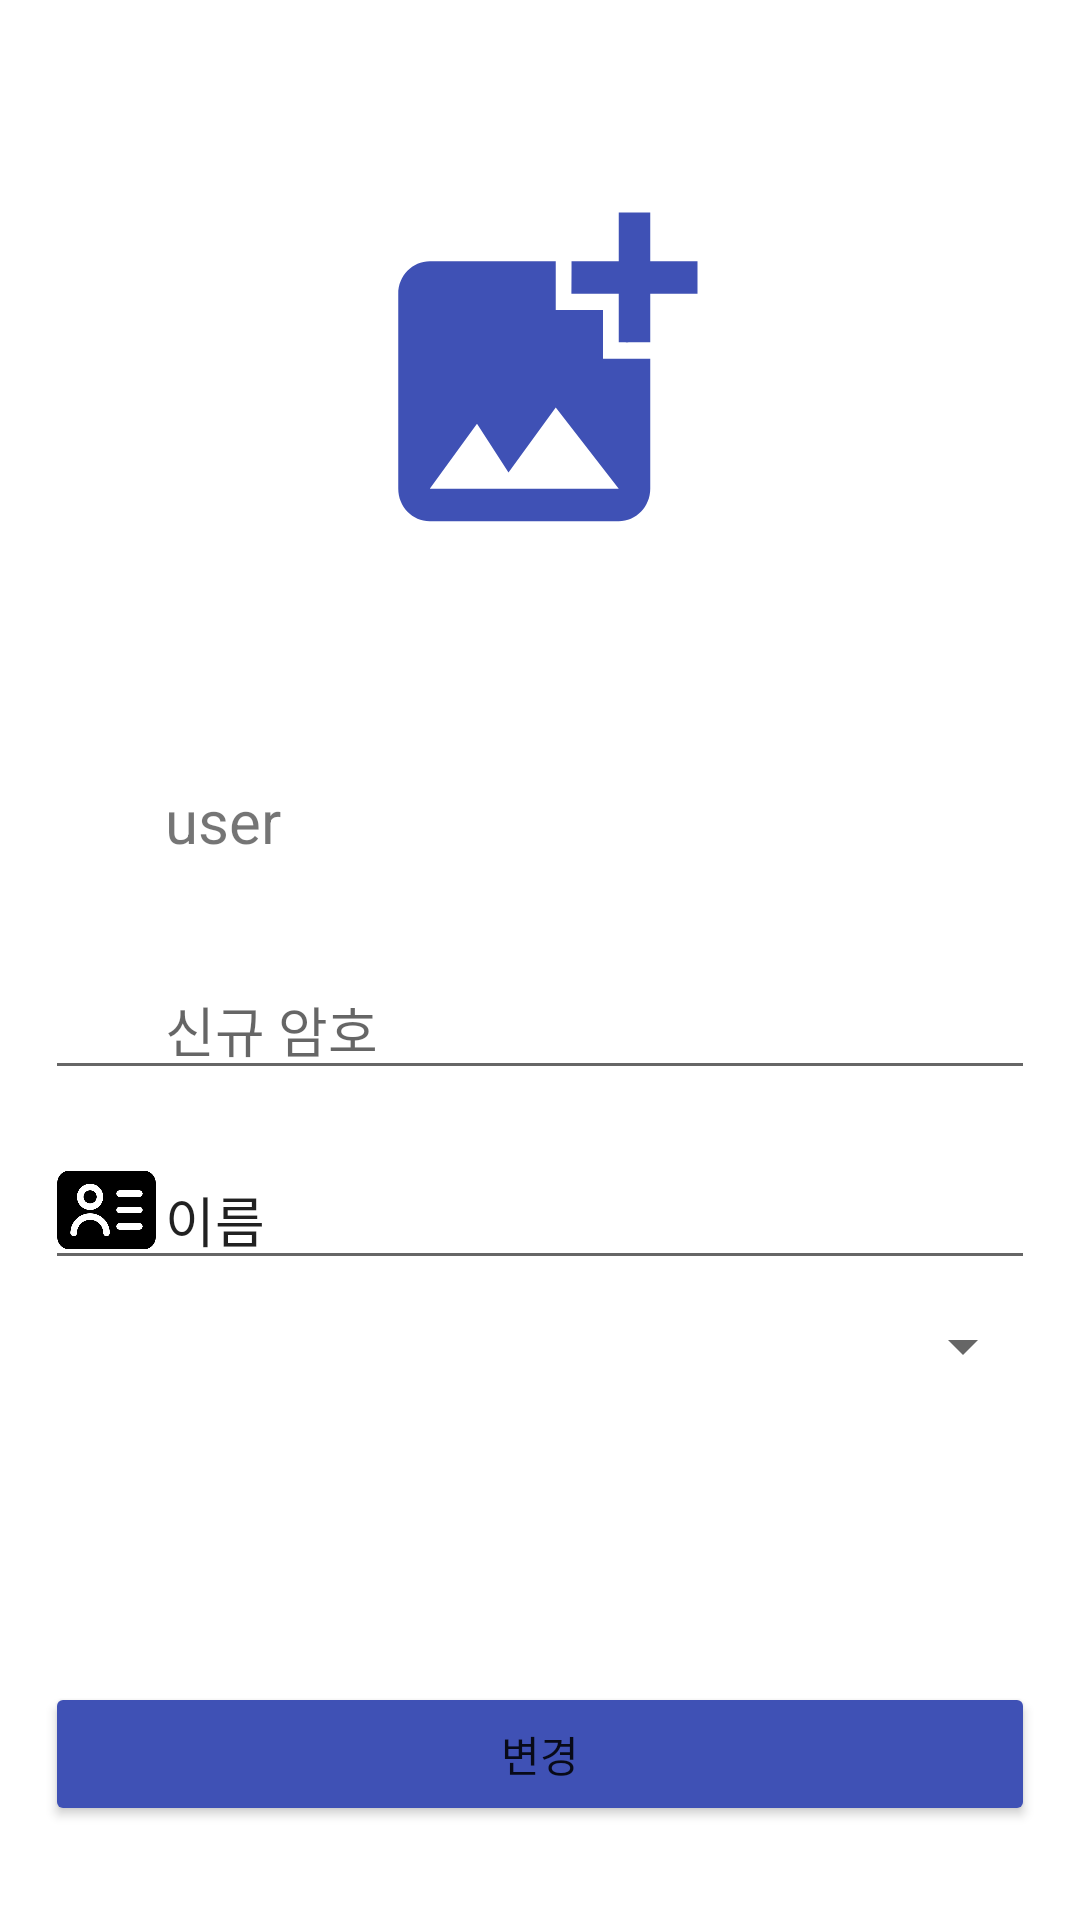

Named icons in this screenshot (1080px×1920px) and their centers, [x,y]:
add photo alternate: [548,367]
